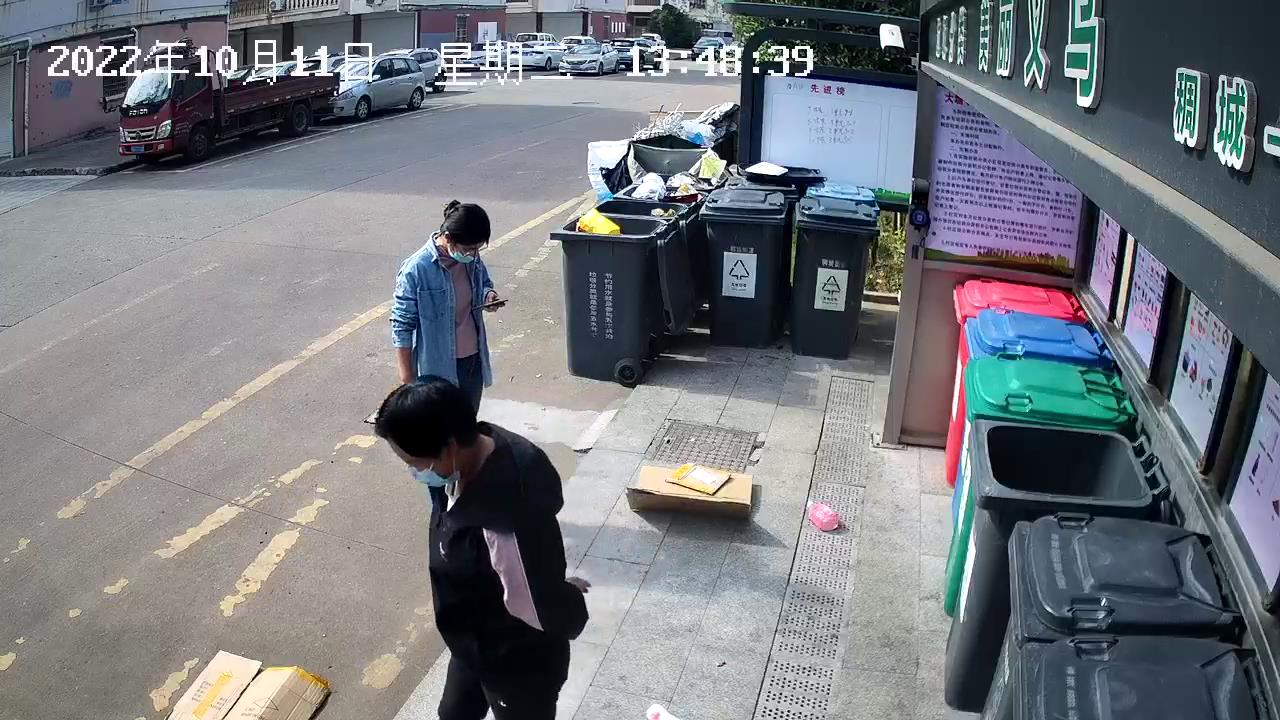person: (363, 369, 595, 720)
suliaozhipin: (802, 493, 844, 535)
worker: (387, 197, 517, 429)
zhizhipin: (152, 643, 331, 720), (622, 455, 763, 530)
